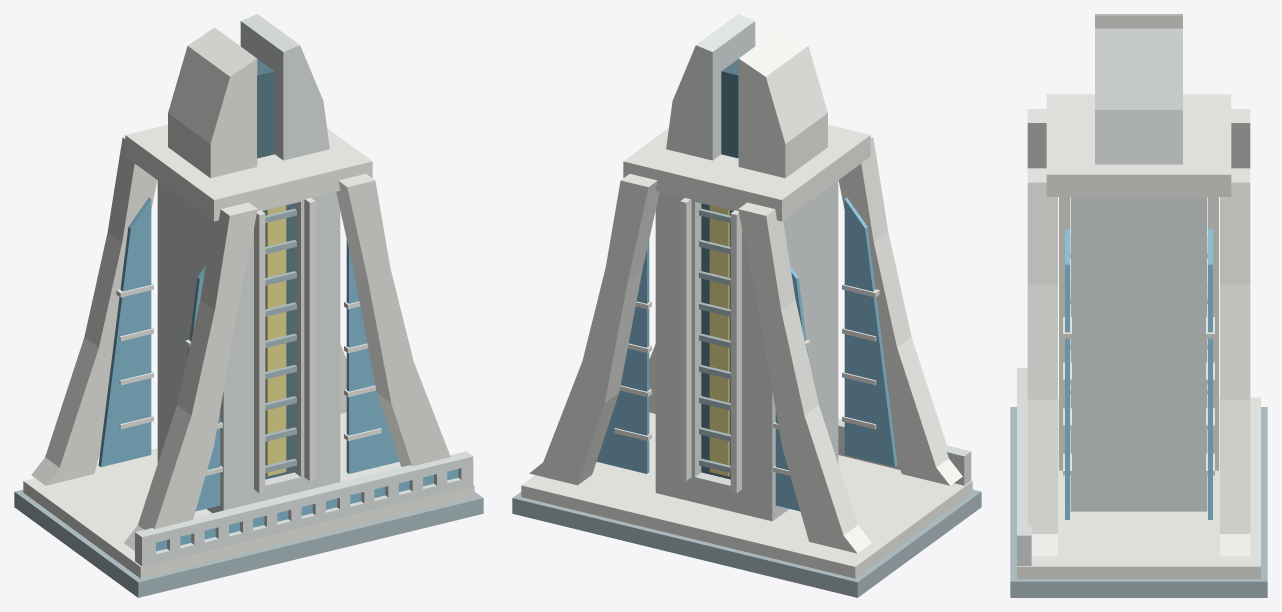
Rendered from 03_buttressed_reactor.glb.
The picture shows the model from 3 angles, left to right: view 1: azimuth 30°, elevation 25°; view 2: azimuth 150°, elevation 25°; view 3: azimuth 270°, elevation 25°; orthographic projection. The views are drawn at different scales.
Visible parts, largest first — view 1: curved_buttress (×3), central_core, blue_infill (×3), plinth, split_crown_left, base_window_fascia, upper_collar, foundation, shaft_rail (×2), split_crown_right, inset_yellow_shaft, inset_backing (+2 smaller); view 2: curved_buttress (×3), central_core, plinth, blue_infill (×3), split_crown_left, upper_collar, foundation, shaft_rail (×2), split_crown_right, inset_yellow_shaft, inset_backing, window_reveal_geometry (+2 smaller); view 3: central_core, curved_buttress (×4), plinth, upper_collar, split_crown_right, foundation, shaft_rail (×2), blue_infill (×2), base_window_fascia, split_crown_left.
Part boxes in pixels (<box>): curved_buttress (×3): <box>31,137,450,550</box>; central_core: <box>157,180,340,513</box>; blue_infill (×3): <box>98,197,399,511</box>; plinth: <box>23,412,474,578</box>; split_crown_left: <box>168,27,257,178</box>; base_window_fascia: <box>135,451,473,566</box>; upper_collar: <box>125,124,372,221</box>; foundation: <box>14,489,483,597</box>; shaft_rail (×2): <box>254,198,315,493</box>; split_crown_right: <box>240,14,329,160</box>; inset_yellow_shaft: <box>266,205,286,476</box>; inset_backing: <box>262,203,294,479</box>; curved_buttress (×3): <box>529,137,962,553</box>; central_core: <box>655,180,838,521</box>; plinth: <box>521,412,972,578</box>; blue_infill (×3): <box>596,197,897,511</box>; split_crown_left: <box>738,27,827,178</box>; upper_collar: <box>623,124,870,221</box>; foundation: <box>512,489,981,597</box>; shaft_rail (×2): <box>680,198,741,493</box>; split_crown_right: <box>666,14,755,160</box>; inset_yellow_shaft: <box>709,205,729,476</box>; inset_backing: <box>701,203,733,479</box>; window_reveal_geometry: <box>695,202,701,476</box>; central_core: <box>1070,197,1207,511</box>; curved_buttress (×4): <box>1027,109,1250,556</box>; plinth: <box>1017,397,1260,578</box>; upper_collar: <box>1046,94,1231,196</box>; split_crown_right: <box>1095,28,1182,164</box>; foundation: <box>1010,407,1267,597</box>; shaft_rail (×2): <box>1059,197,1218,470</box>; blue_infill (×2): <box>1065,229,1212,519</box>; base_window_fascia: <box>1017,368,1031,565</box>; split_crown_left: <box>1095,14,1182,28</box>.
Size of the model in its own units: 3.7 by 4.85 by 2.3.
